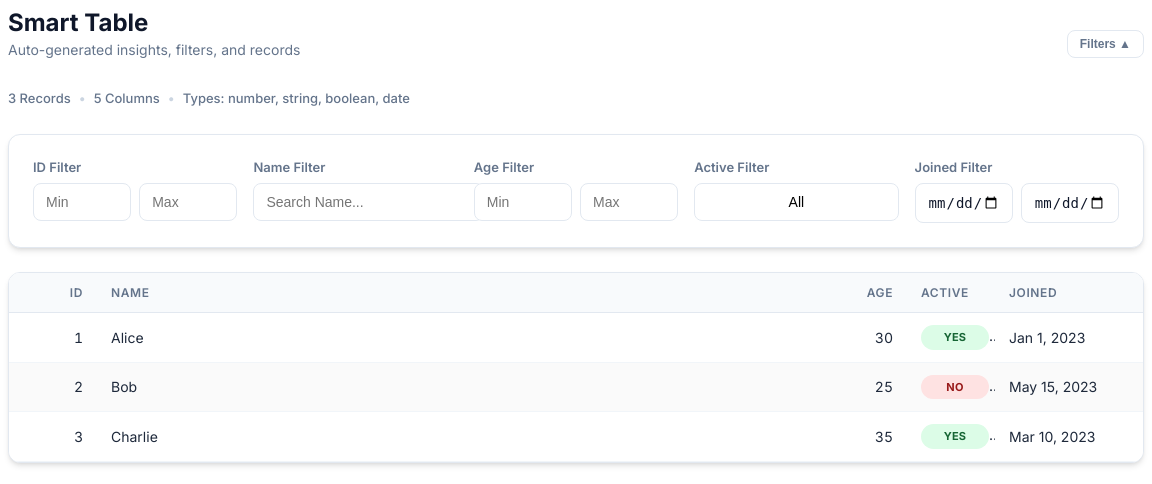
Test: Phase 3: Filters and Sorting Integration › filters data based on boolean toggle
Click: true
Click the button "All": [796, 202] box left=694, top=183, right=899, bottom=221
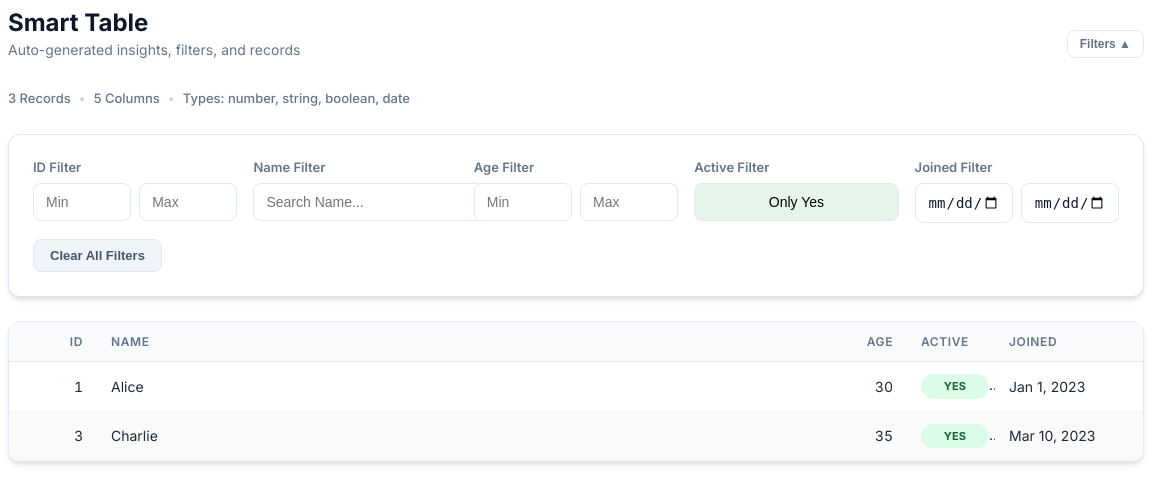
Check: the number of rows is 3, box left=9, top=322, right=1143, bottom=362; left=9, top=362, right=1143, bottom=412; left=9, top=412, right=1143, bottom=461
Check: the button "Only Yes" is shown
Click: false
Click the button "Only Yes": [796, 202] box left=694, top=183, right=899, bottom=221
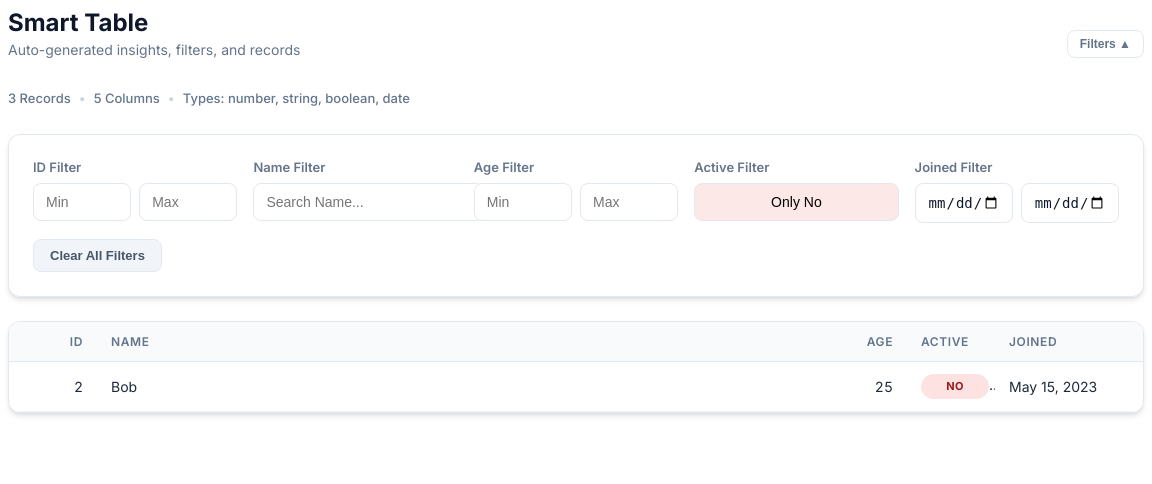
Check: the number of rows is 2, box left=9, top=322, right=1143, bottom=362; left=9, top=362, right=1143, bottom=412
Check: the button "Only No" is shown, box left=694, top=183, right=899, bottom=221
Check: the text "Bob" is shown, box left=111, top=378, right=137, bottom=395
